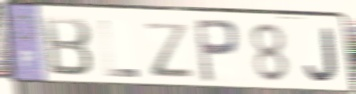8: (249, 21, 289, 85)
B: (41, 14, 95, 79)
J: (303, 26, 340, 84)
L: (97, 18, 141, 80)
P: (193, 17, 242, 86)
Z: (141, 20, 195, 79)
